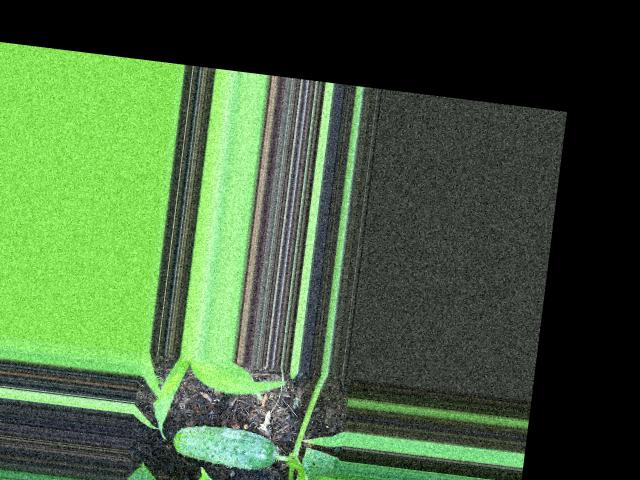cucumber: (169, 420, 279, 472)
